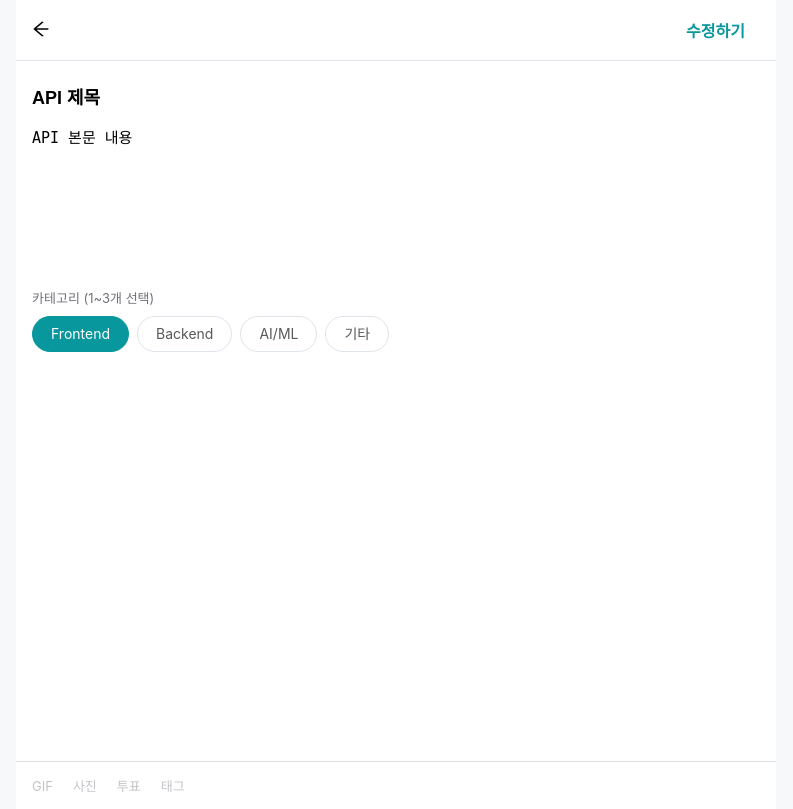
Test: CommunityWritePage › 수정 모드 › 내용을 모두 지우면 수정하기 버튼이 비활성화된다
The image size is (793, 809).
Clear the text box showing "API 본문 내용": (396, 194) [32,114,760,274]
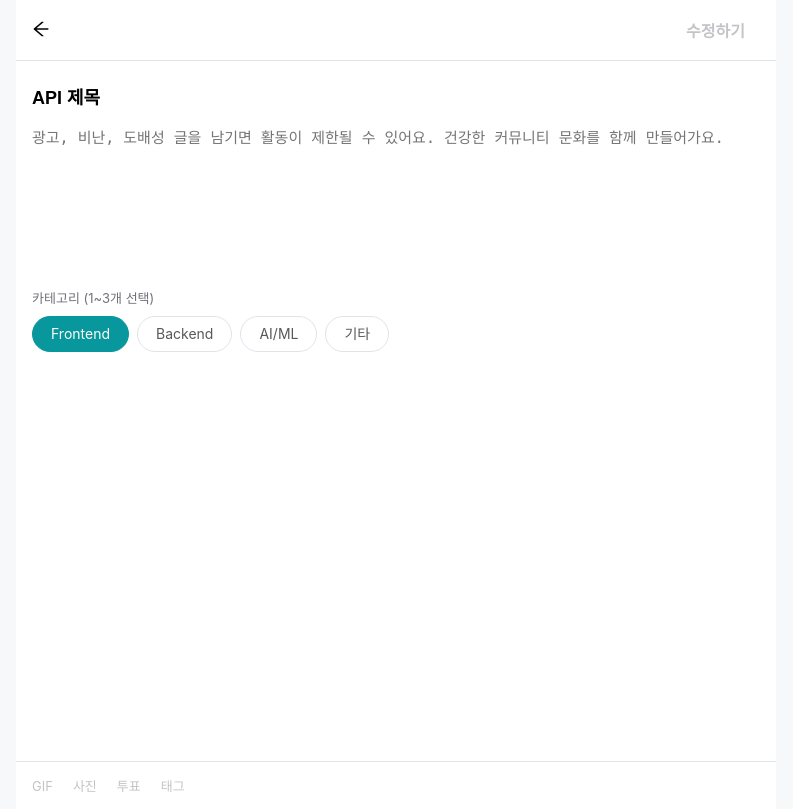
Now the button "수정하기" is disabled, box [671,14,760,46]
